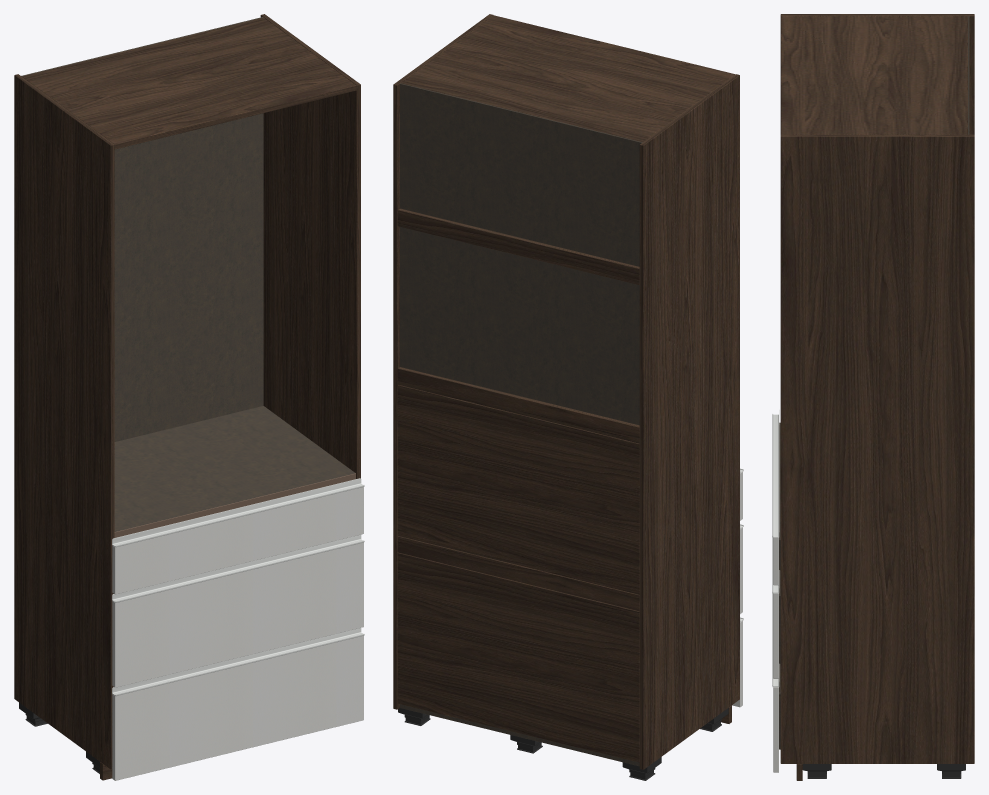
3 views of the same model, side by side, from view 1: azimuth 30°, elevation 25°; view 2: azimuth 150°, elevation 25°; view 3: azimuth 270°, elevation 25° (orthographic).
Visible parts, largest first — view 1: HK1001198; view 2: HK1001198; view 3: HK1001198.
Part boxes in pixels (x1,y1,x2,y2): HK1001198: [14, 14, 364, 780]; HK1001198: [393, 14, 743, 780]; HK1001198: [772, 14, 974, 780].
Bounding box in the file's own units: 0.9 × 2.2 × 0.6256.
8 materials, 7 textured.
